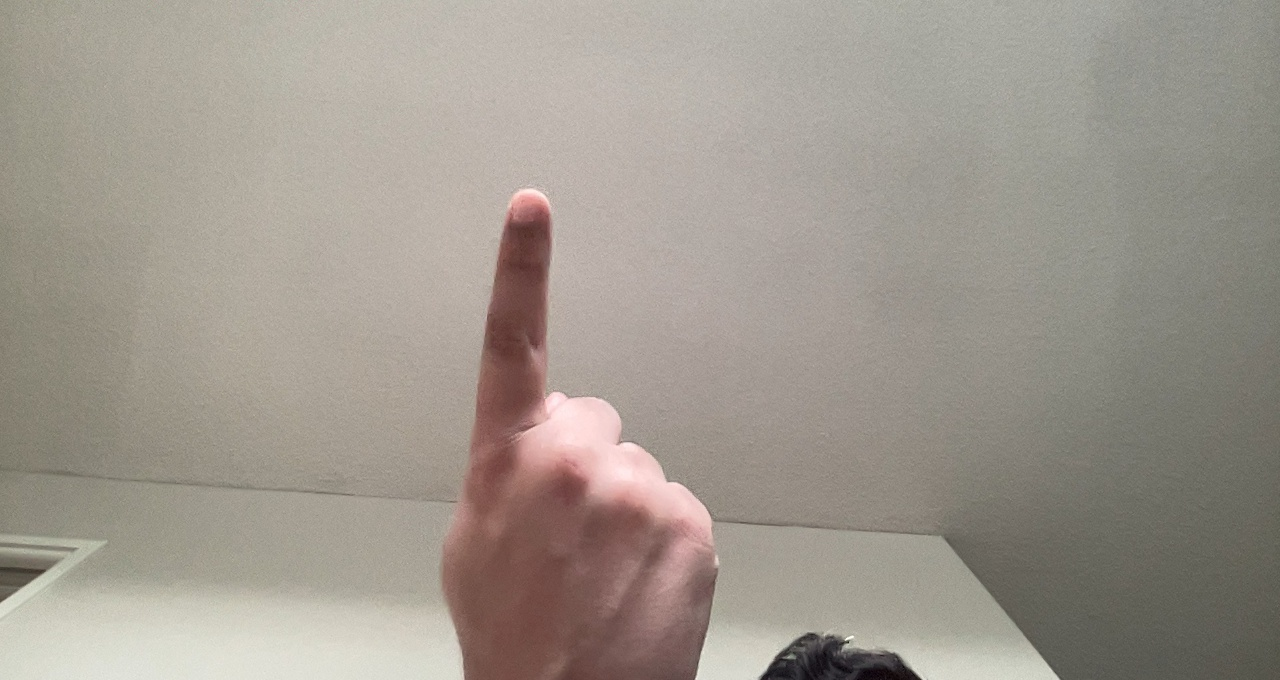fingerup: (425, 176, 724, 672)
